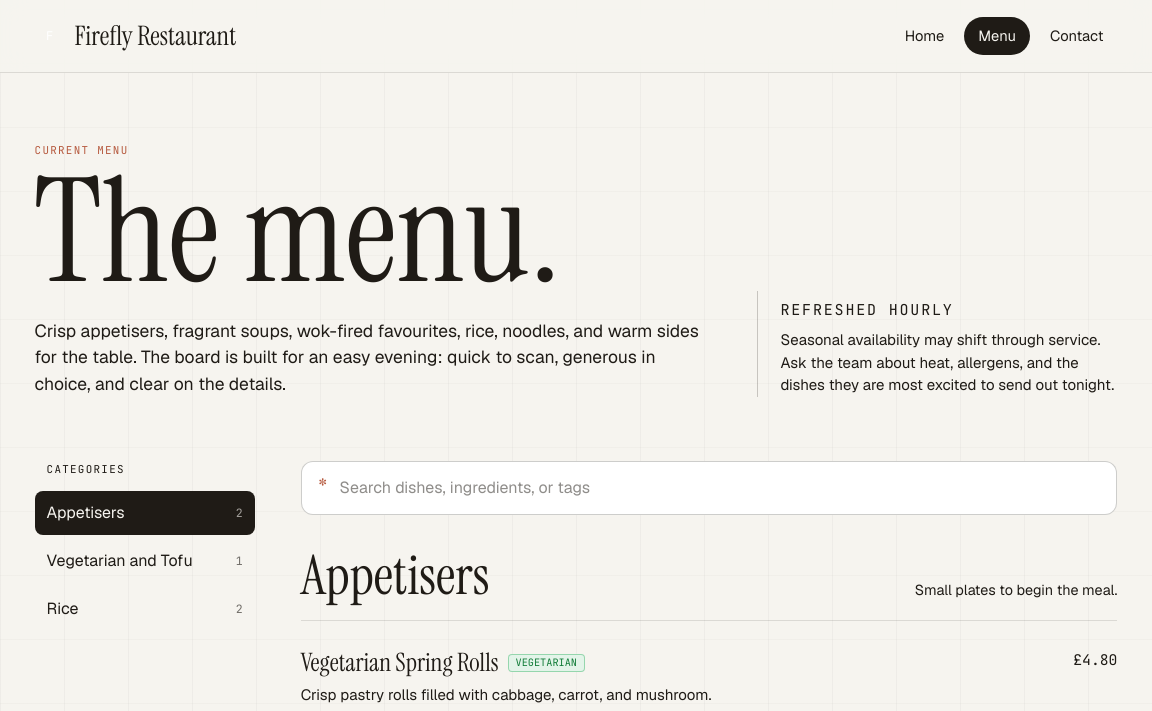
Test: MenuPageView › shows an empty state when no dishes match
The width and height of the screenshot is (1152, 711).
Type "not a dish" into the search field named "Search menu" at (720, 488), box [340,476,1100,500]
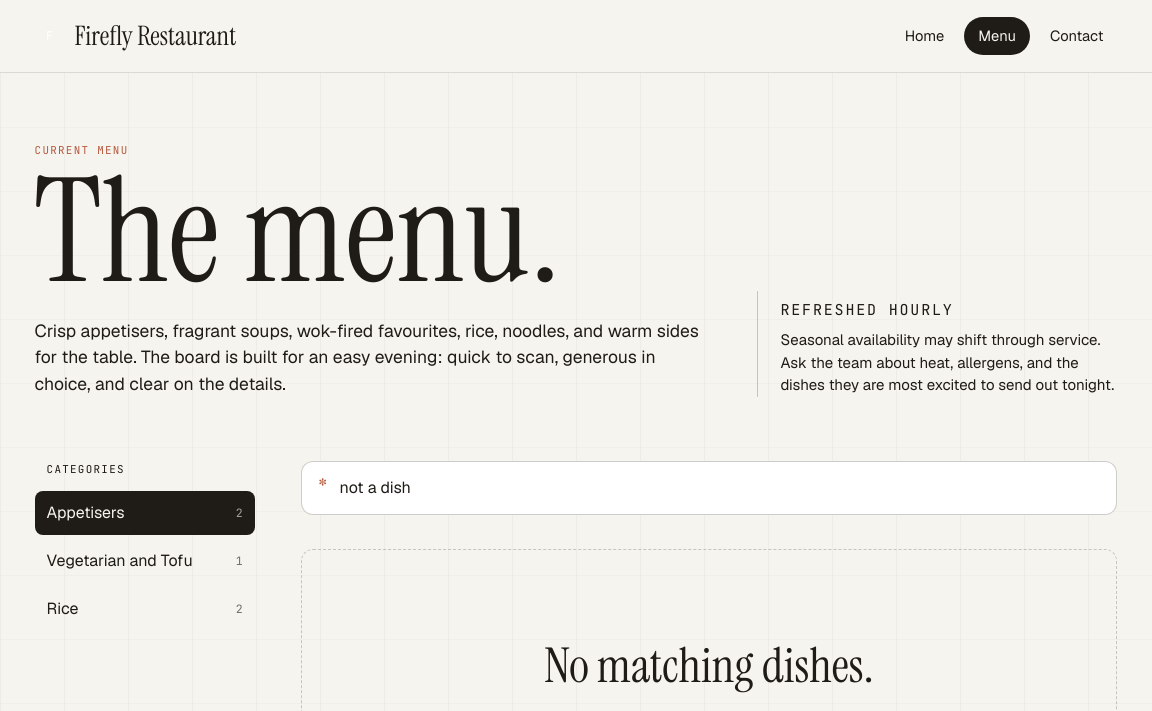
Now the heading "No matching dishes." is shown, box [544,634,874,697]
